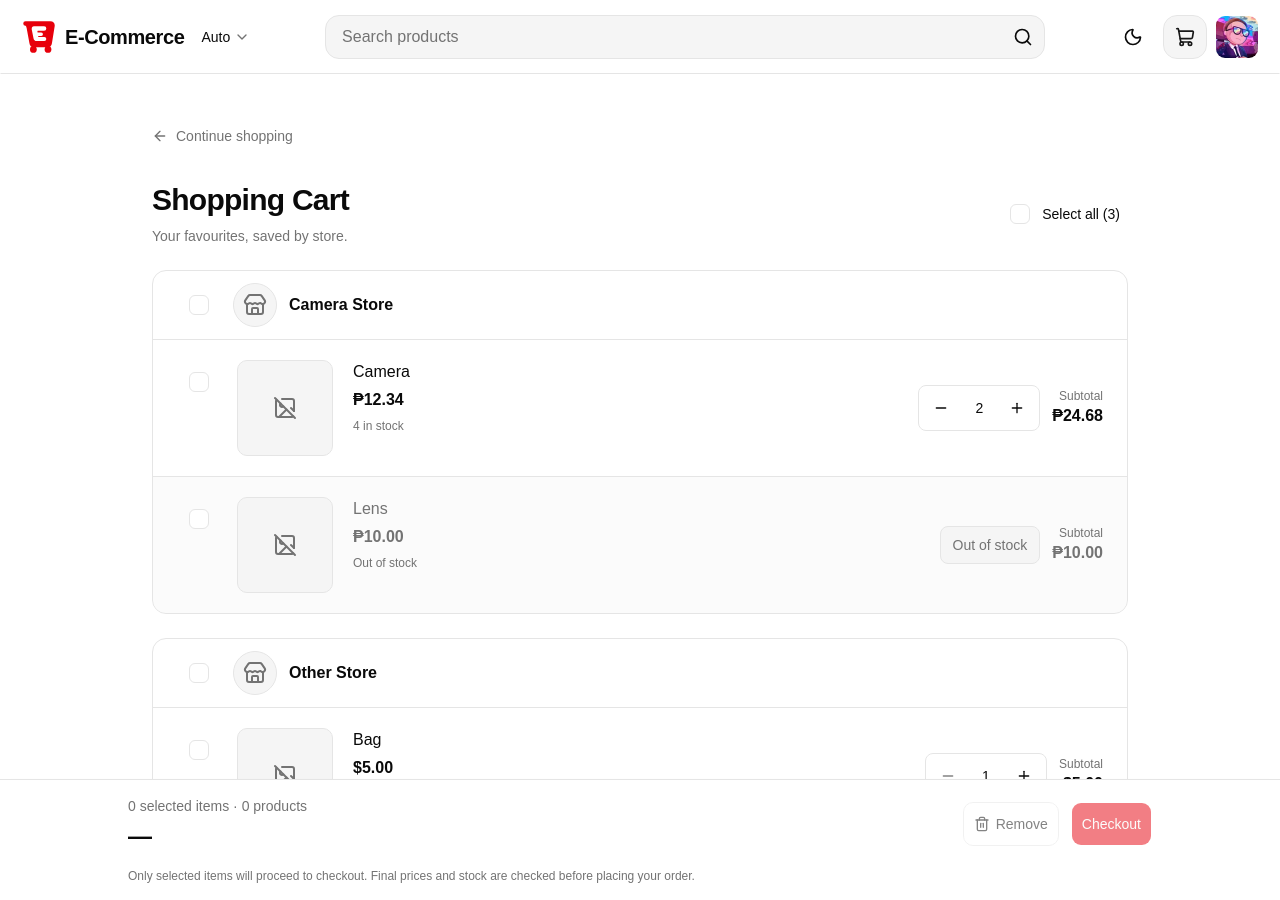
Test: Shopping cart › keeps failed removals visible and lets the customer retry
Click the checkbox named "Select all (3)" at (1020, 214), box top-left (1010, 204), bottom-right (1030, 224)
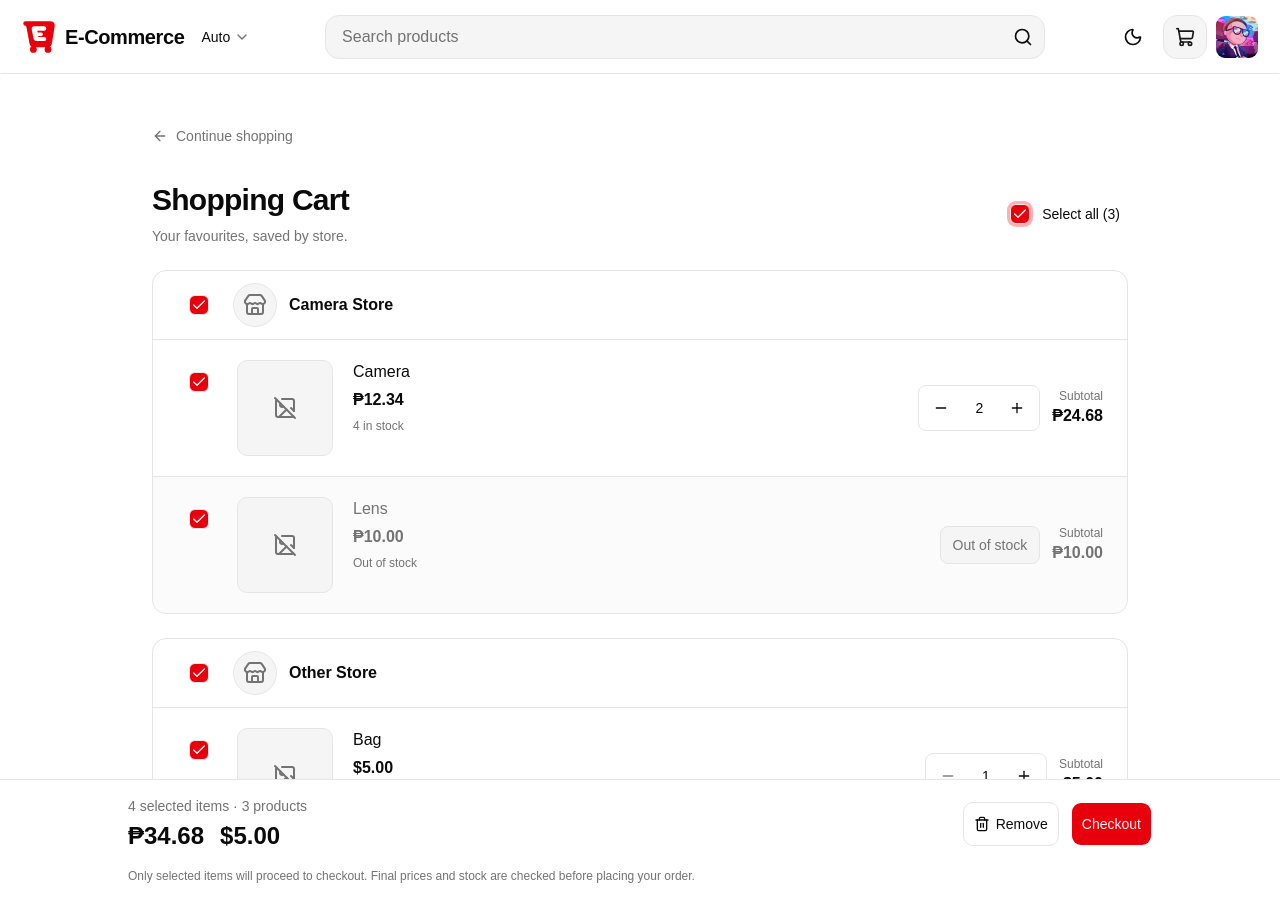
Click the button "Remove" at (1011, 824), box top-left (963, 802), bottom-right (1059, 846)
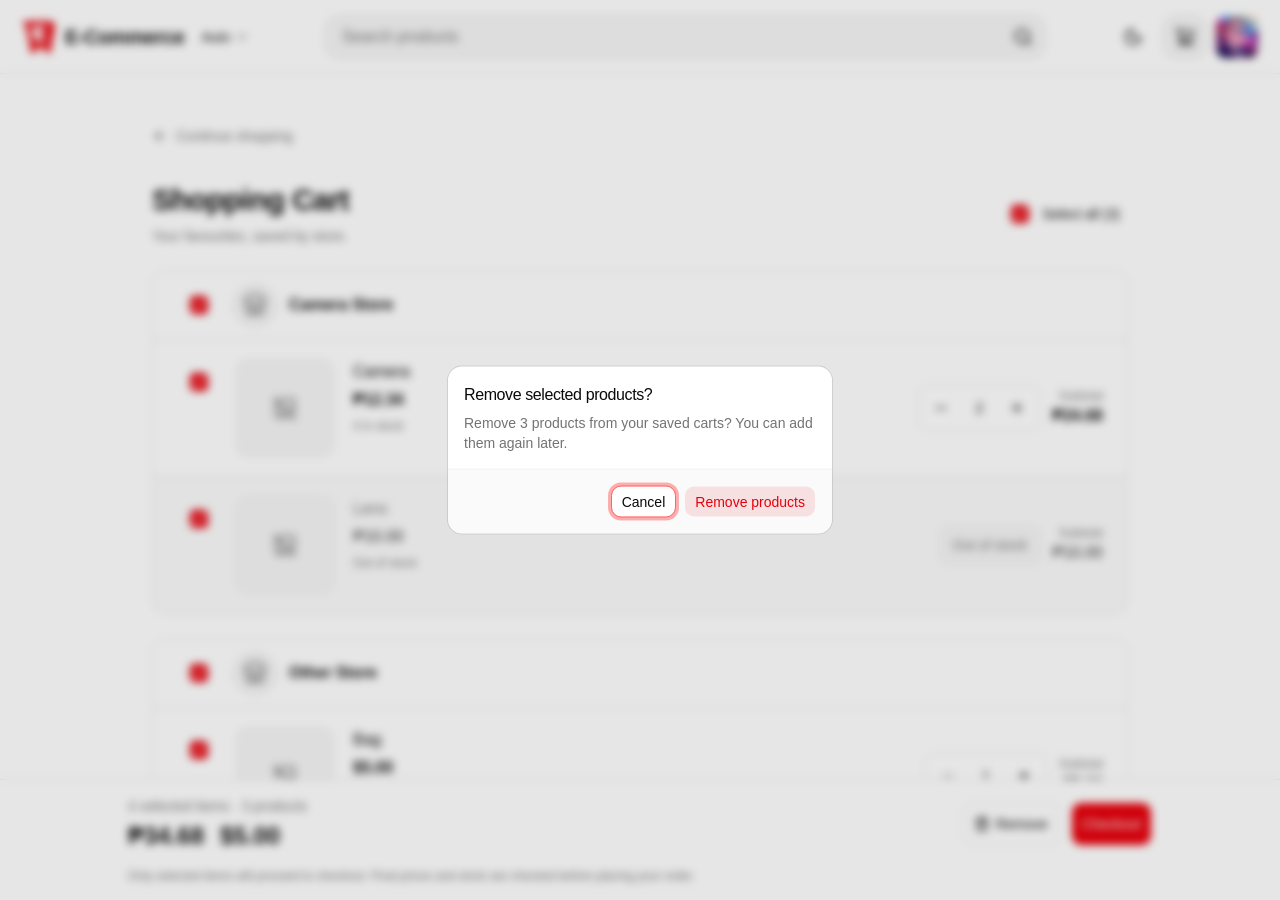
Click the button "Remove products" at (750, 502), box top-left (684, 486), bottom-right (816, 518)
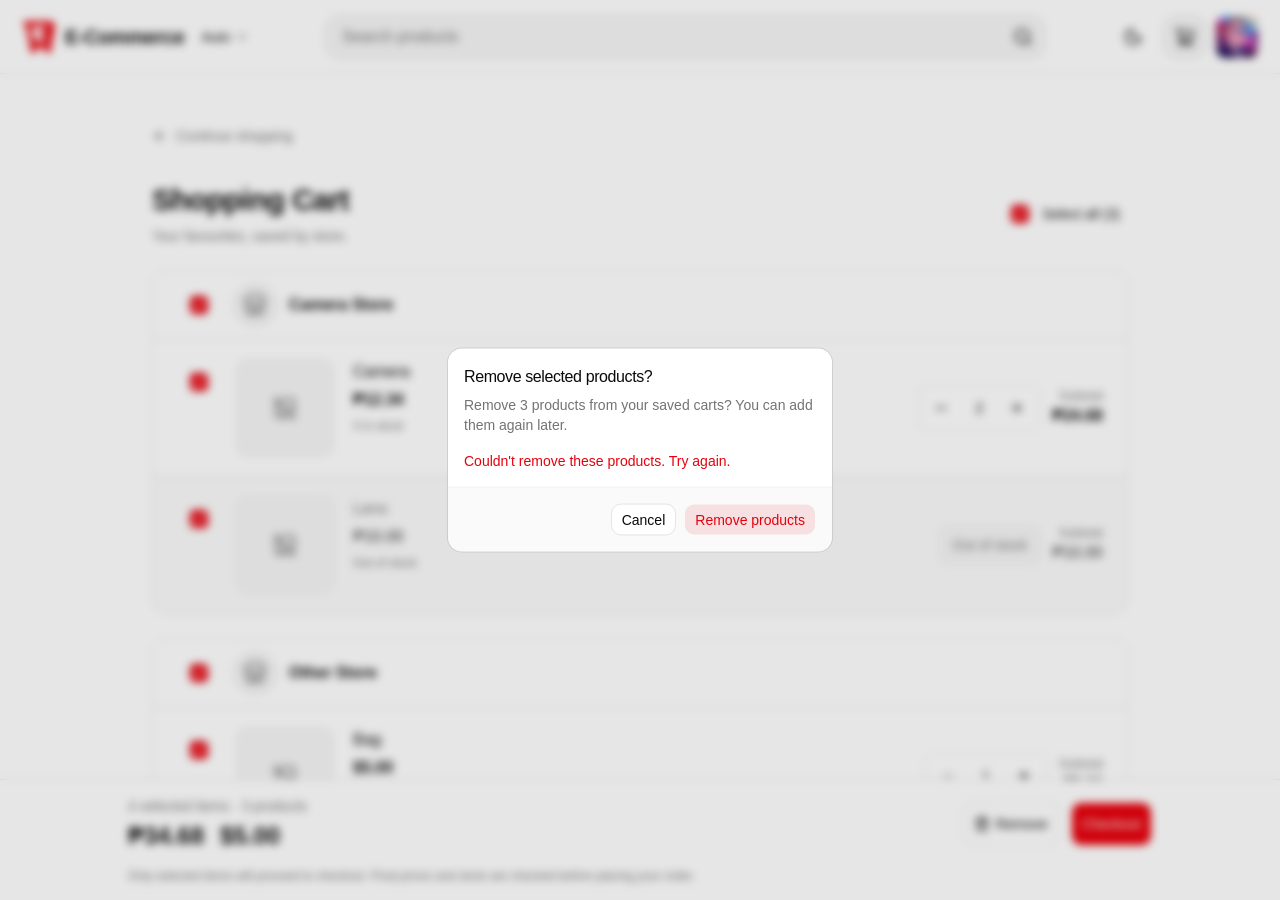
Check: the text "Selected products removed from your cart." is not shown
Check: the message reads "Couldn't remove these products. Try again.", box top-left (464, 452), bottom-right (730, 468)
Click the button "Remove products" at (750, 520), box top-left (684, 504), bottom-right (816, 536)
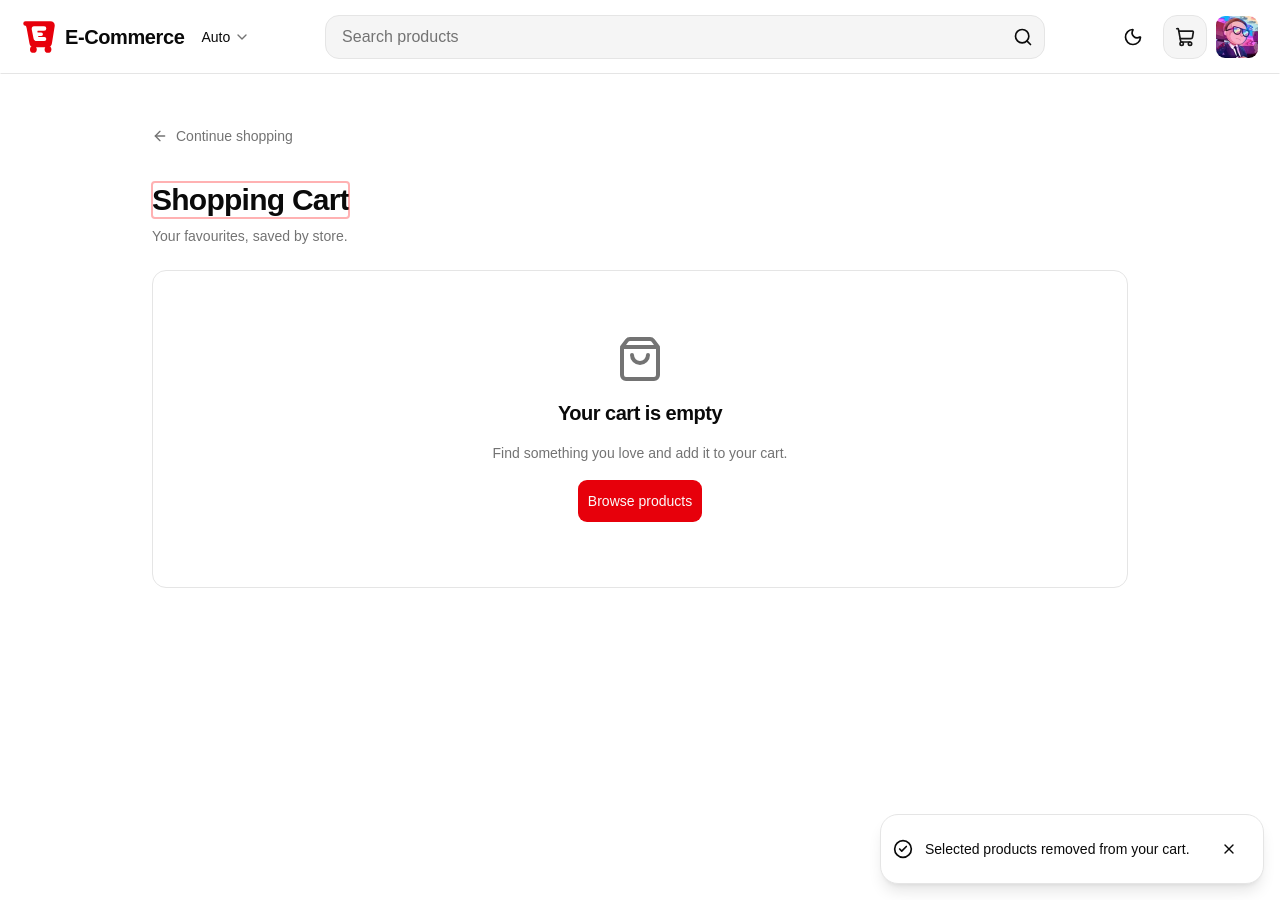
Check: the heading "Your cart is empty" is shown, box top-left (558, 399), bottom-right (722, 427)
Check: the text "Selected products removed from your cart." is shown, box top-left (880, 814), bottom-right (1264, 884)
